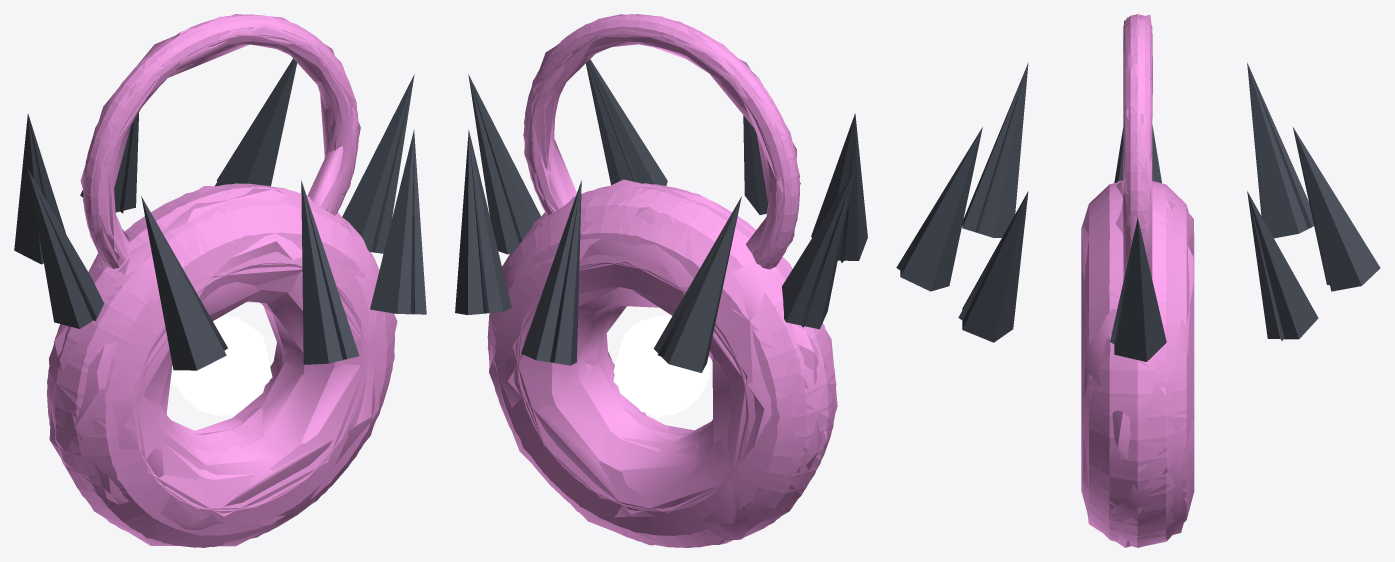
File: SM_Boss_Sirenkollektiv.fbx
The picture shows the model from 3 angles, left to right: view 1: azimuth 30°, elevation 25°; view 2: azimuth 150°, elevation 25°; view 3: azimuth 270°, elevation 25°; orthographic projection. The views are drawn at different scales.
Visible parts, largest first — view 1: LOD0_SM_Boss_Sirenkollektiv, LOD3_SM_Boss_Sirenkollektiv, LOD2_SM_Boss_Sirenkollektiv, LOD1_SM_Boss_Sirenkollektiv; view 2: LOD0_SM_Boss_Sirenkollektiv, LOD3_SM_Boss_Sirenkollektiv, LOD2_SM_Boss_Sirenkollektiv, LOD1_SM_Boss_Sirenkollektiv; view 3: LOD0_SM_Boss_Sirenkollektiv, LOD3_SM_Boss_Sirenkollektiv, LOD1_SM_Boss_Sirenkollektiv, LOD2_SM_Boss_Sirenkollektiv.
Boxes of the visible parts, box(x1,y1,x2,y2) form: LOD0_SM_Boss_Sirenkollektiv: box(14, 14, 426, 547); LOD3_SM_Boss_Sirenkollektiv: box(28, 16, 414, 546); LOD2_SM_Boss_Sirenkollektiv: box(49, 14, 394, 547); LOD1_SM_Boss_Sirenkollektiv: box(47, 14, 394, 547); LOD0_SM_Boss_Sirenkollektiv: box(455, 14, 867, 547); LOD3_SM_Boss_Sirenkollektiv: box(469, 15, 855, 545); LOD2_SM_Boss_Sirenkollektiv: box(489, 14, 837, 544); LOD1_SM_Boss_Sirenkollektiv: box(487, 14, 836, 547); LOD0_SM_Boss_Sirenkollektiv: box(900, 14, 1380, 543); LOD3_SM_Boss_Sirenkollektiv: box(896, 15, 1329, 547); LOD1_SM_Boss_Sirenkollektiv: box(1081, 14, 1194, 547); LOD2_SM_Boss_Sirenkollektiv: box(1081, 15, 1194, 547).
Size of the model in its own units: 3.06 by 3.96 by 3.44.
